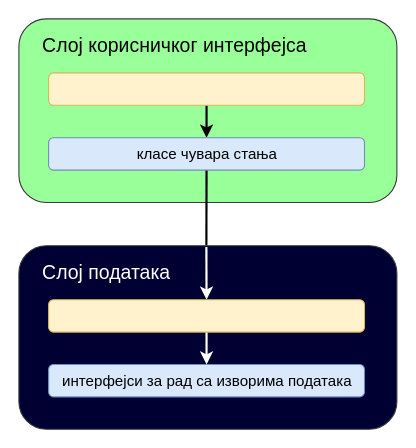
The diagram is 416 pixels wide and 448 high, and some of its shapes have lost their labels. The shapes that lost their labels are listed below. From the top down, each one's box as (x1, y1, x2, y2) in pixels, then its label:
(48, 72, 364, 105): елементи корисничког интерфејса
(48, 299, 364, 332): класе репозиторијума
